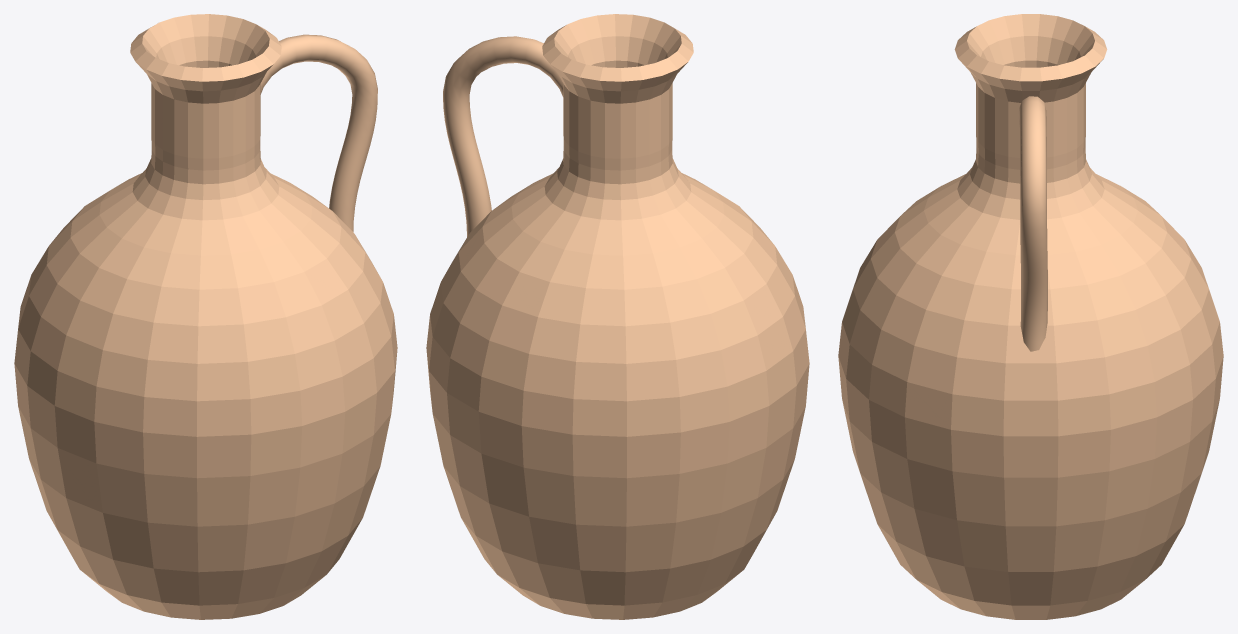
Rendered from sisifus_game_wine.fbx.
3 views of the same model, side by side, from view 1: azimuth 30°, elevation 25°; view 2: azimuth 150°, elevation 25°; view 3: azimuth 270°, elevation 25° (orthographic).
Parts seen in each view (by area): view 1: Sphere; view 2: Sphere; view 3: Sphere.
Part boxes in pixels (x1=…): Sphere: x1=14, y1=14, x2=397, y2=619; Sphere: x1=426, y1=14, x2=809, y2=619; Sphere: x1=838, y1=14, x2=1223, y2=619.
Bounding box in the file's own units: 202 × 307 × 200.
